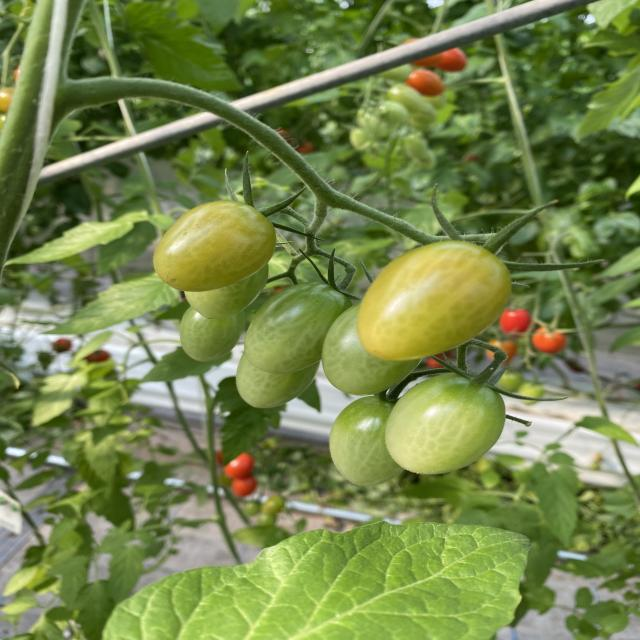kirmizi: (148, 208, 538, 492)
